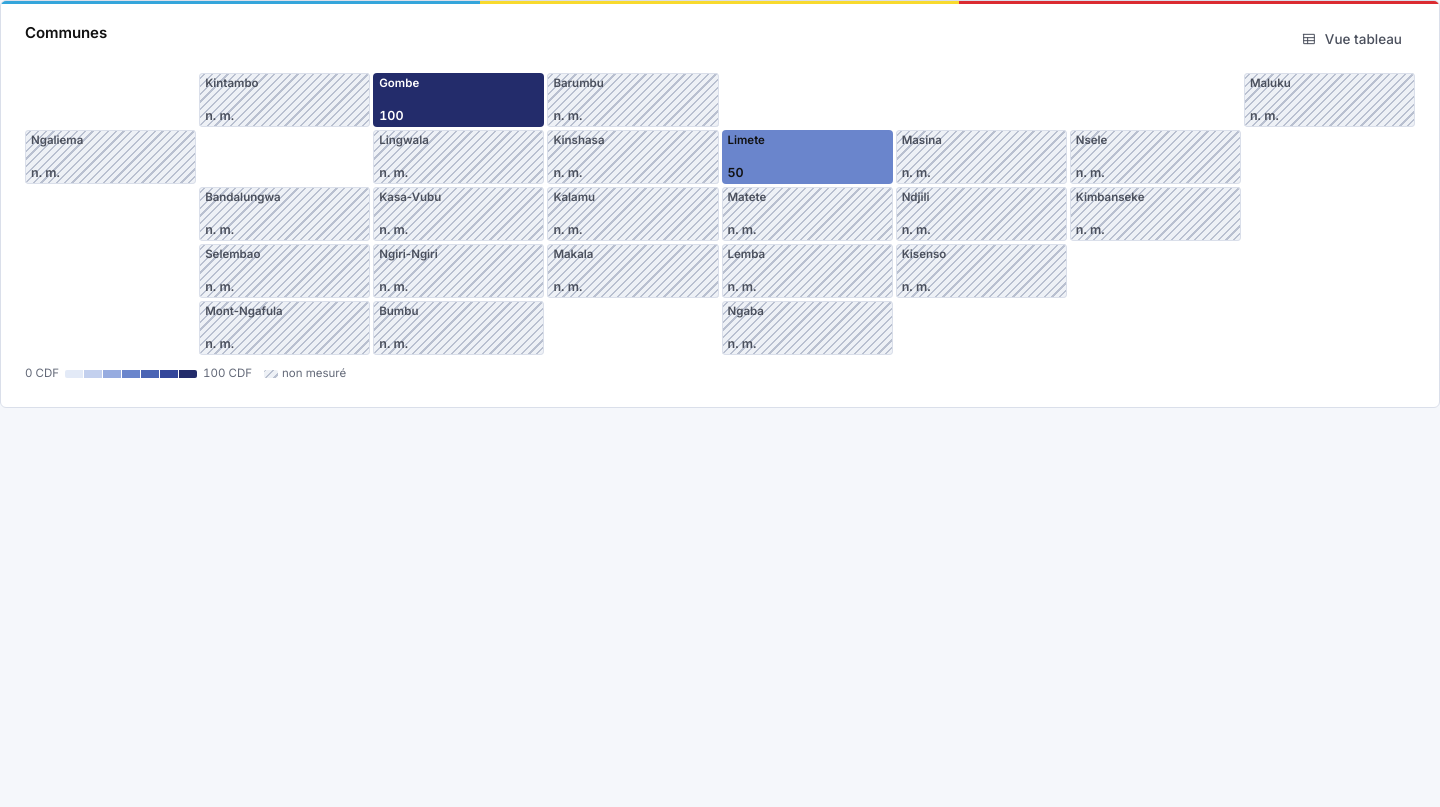
cartes de chaleur › HeatGrid : 24 communes, les absentes « non mesurées » avec motif, échelle de légende, tableau
Check: the picture named "Kalamu : non mesuré — aucun paiement" is shown, box [553,190,595,237]
Check: the element named "Échelle : de 0 CDF (clair) à 100 CDF (foncé)" is shown, box [25,366,346,380]
Step 1. Click the button "Vue tableau" → x=1351, y=39, box [1288,21,1415,57]
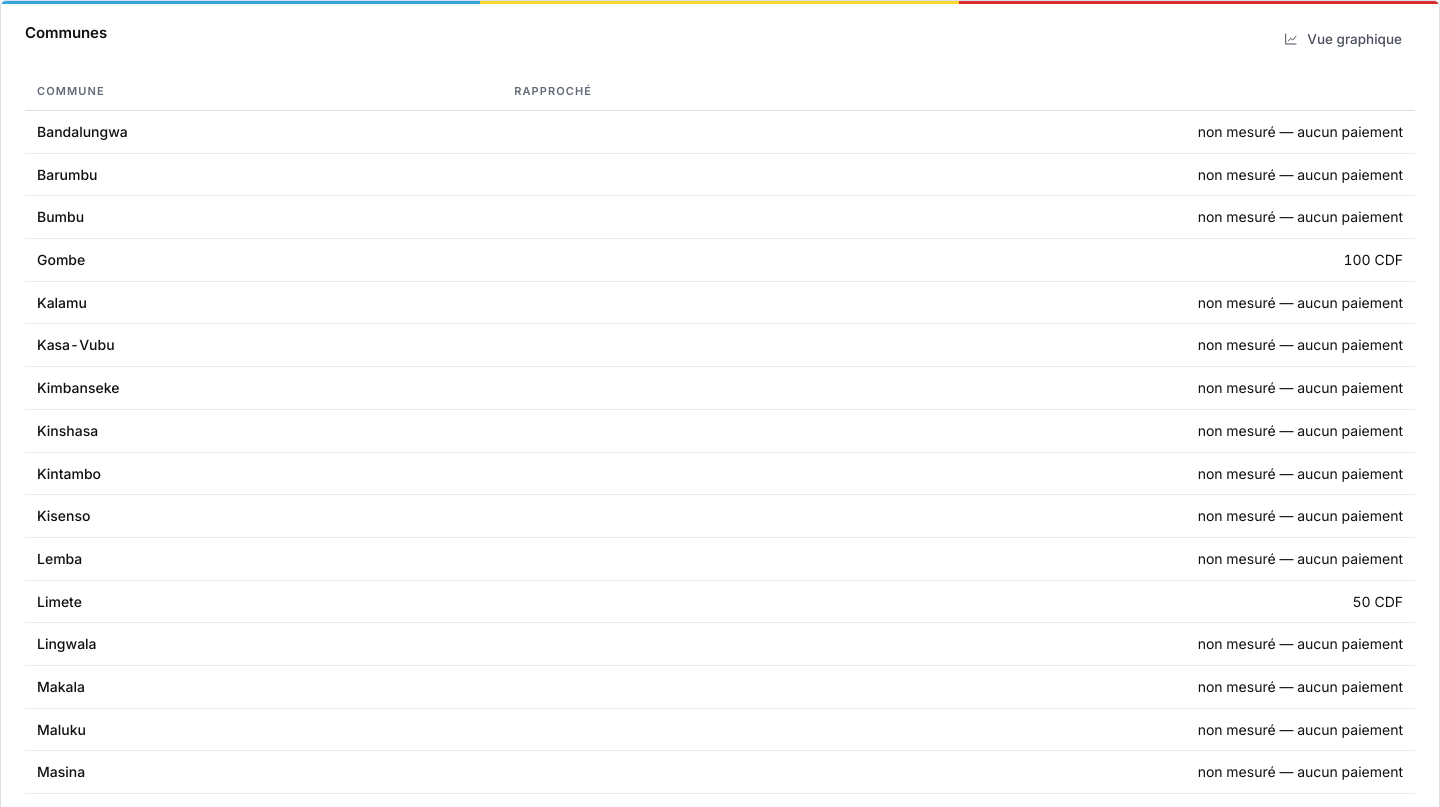
Check: the number of rows is 25
